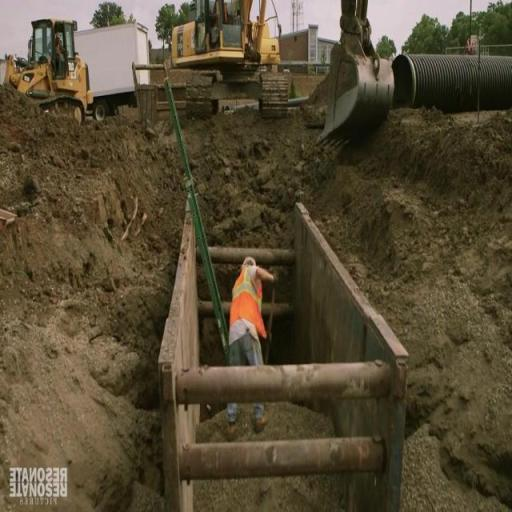vest: (228, 264, 270, 347)
